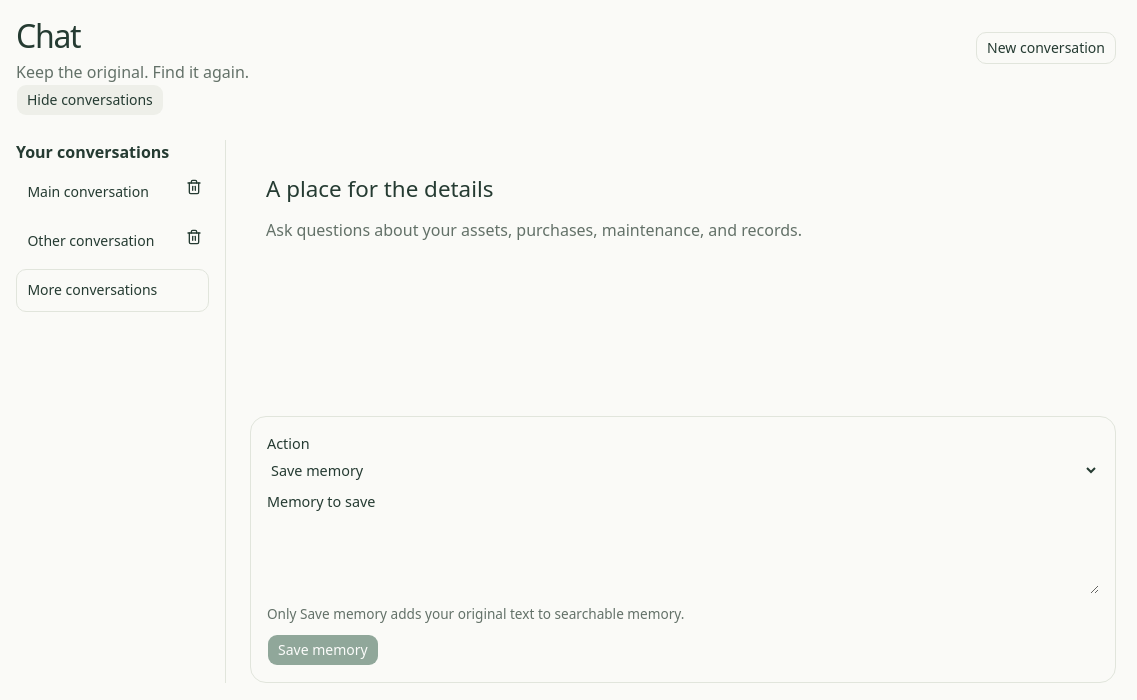
Test case: does not show a paging error in a new conversation
Click the button "More conversations".
click(112, 290)  # box [16,269,209,312]
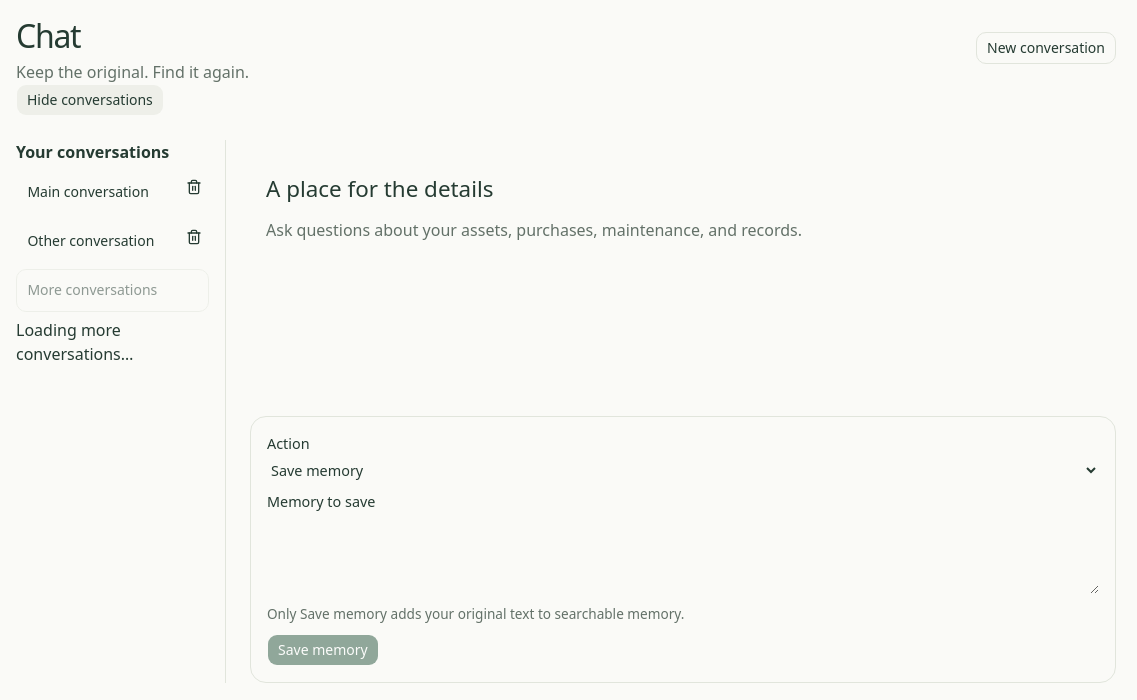
Click the button "New conversation".
click(1046, 48)  # box [976,32,1116,64]
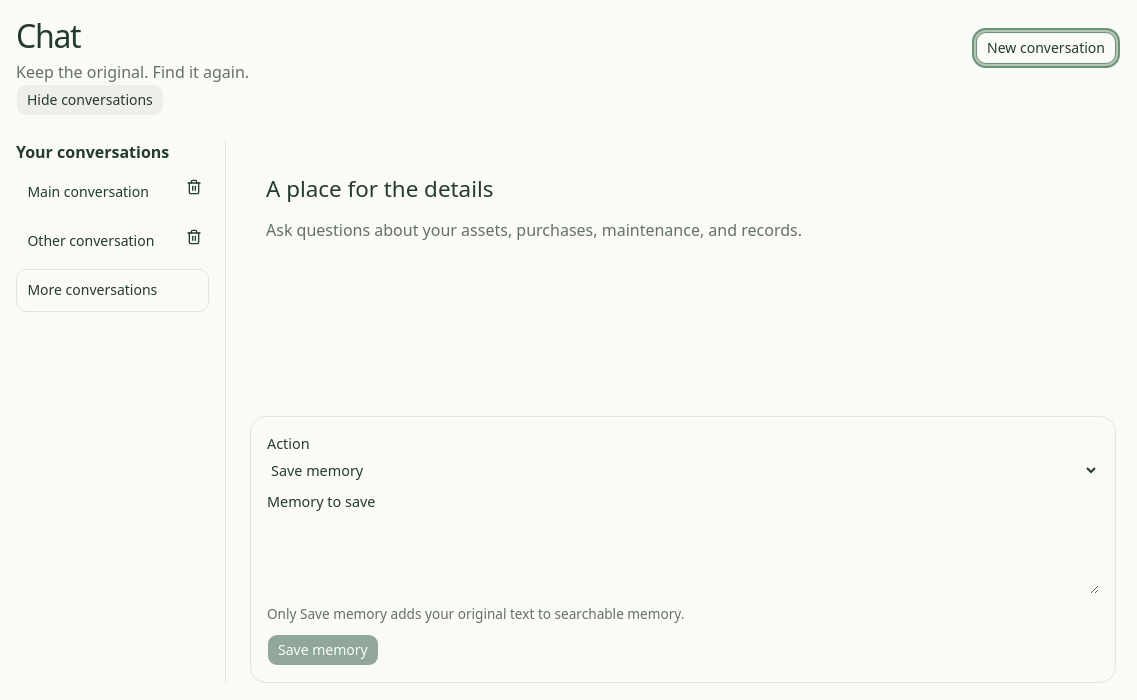
Check: the message "Loading more conversations…" is gone
Check: the button "More conversations" is enabled, box [16,269,209,312]
